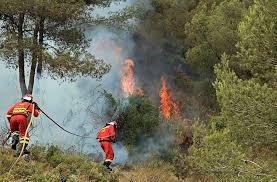fire: (117, 57, 143, 96), (156, 74, 177, 119)
